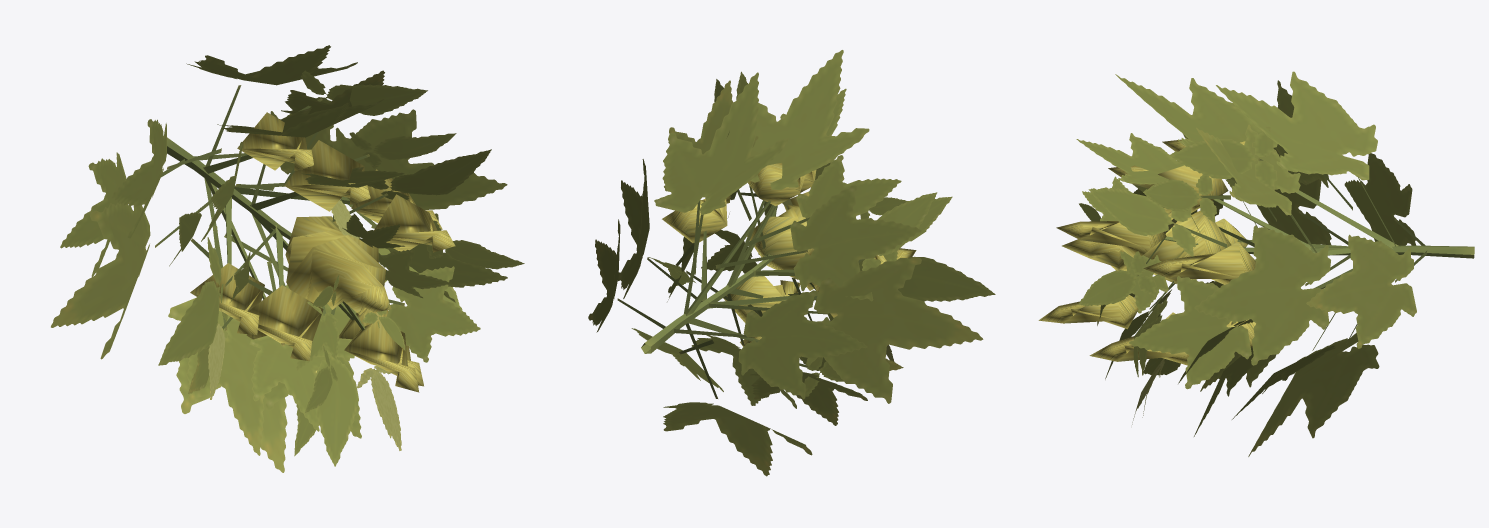
File: p_gold_afghan_ripe_c1_cards.obj
The picture shows the model from 3 angles, left to right: view 1: azimuth 30°, elevation 25°; view 2: azimuth 150°, elevation 25°; view 3: azimuth 270°, elevation 25°; orthographic projection. The views are drawn at different scales.
Size of the model in its own units: 1.45 by 1.41 by 1.25.
1 material, 1 textured.
